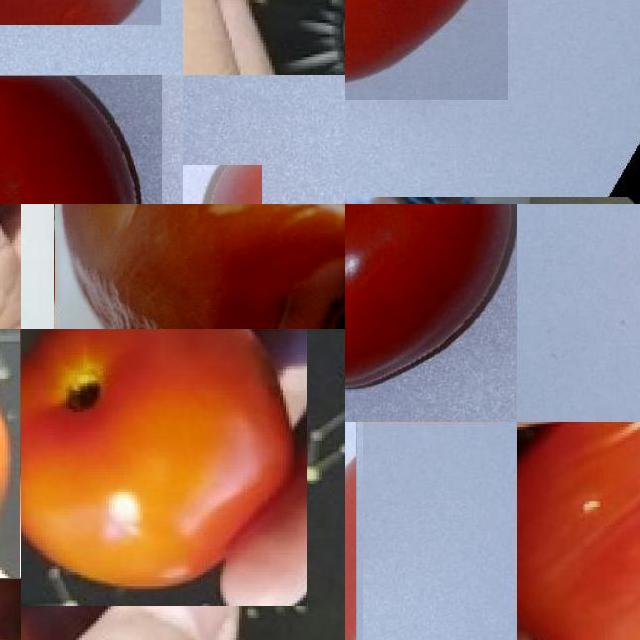0: (345, 204, 517, 422), (0, 75, 162, 204)
1: (517, 422, 640, 640)
Fresh Tomato: (21, 329, 306, 605), (345, 0, 508, 100), (0, 329, 21, 578)
Rotten Tomato: (54, 204, 345, 329)
